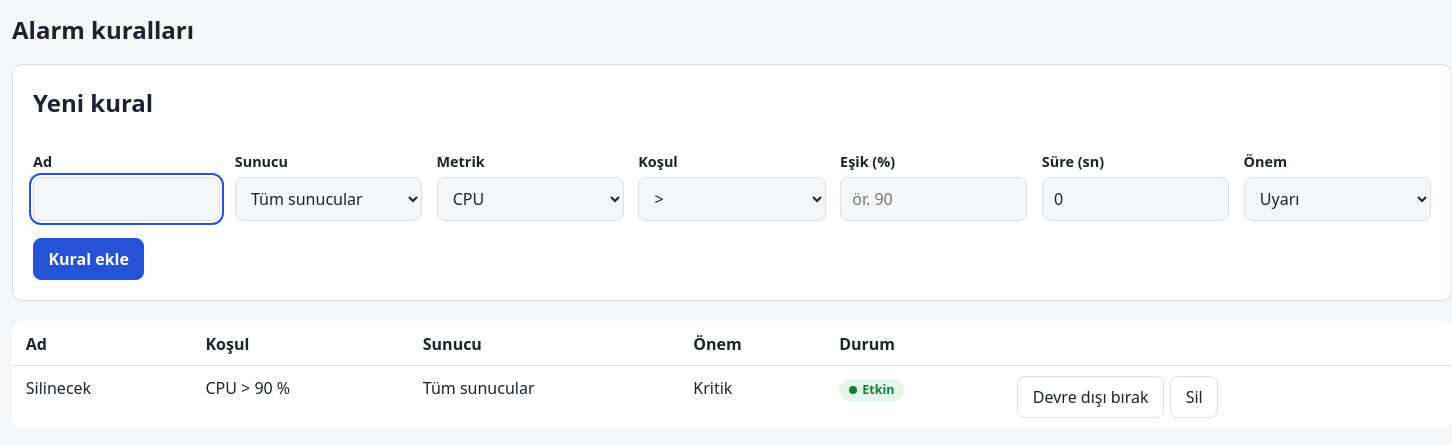
Test: RulesPage › silme: onay ister; "Vazgeç" siler(!), "Evet, sil" listeden kaldırır
Expected: the row with test id "rule-row" is shown, [12,366,1451,428]
Click the button "Sil".
click(1194, 397)  # box [1170,376,1218,418]
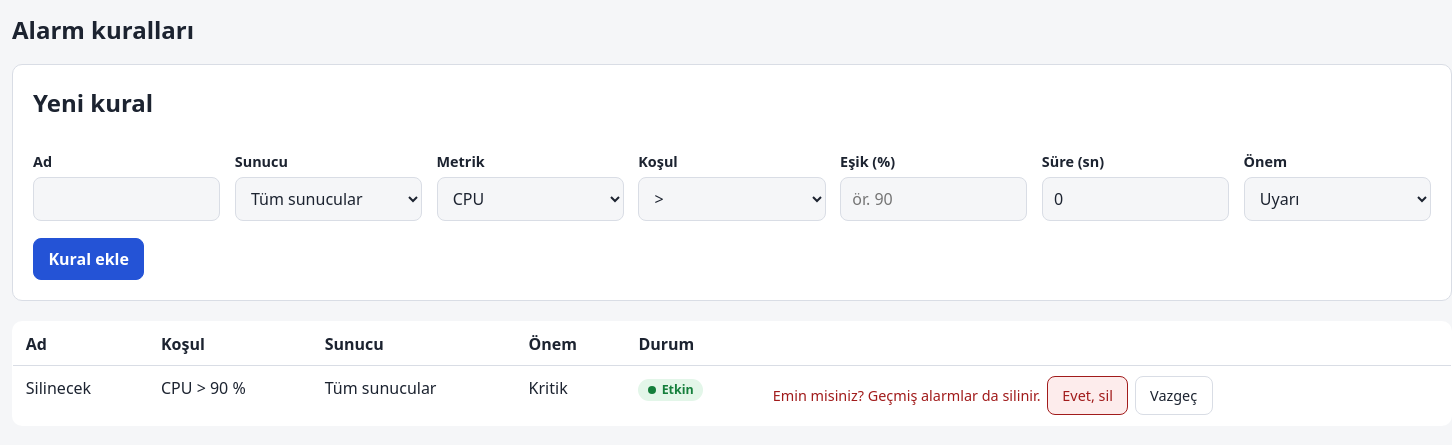
Result: the text "Emin misiniz? Geçmiş alarmlar da silinir. Evet, sil Vazgeç" is shown at [773,376,1212,416]
Click the button "Vazgeç".
click(1174, 396)  # box [1135,376,1212,416]
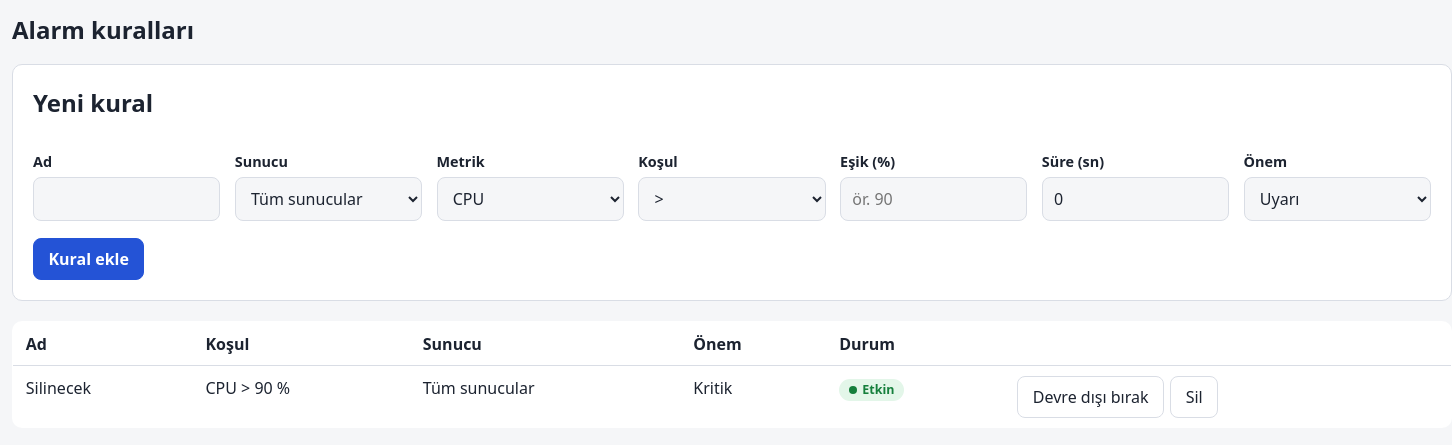
Result: the text "Geçmiş alarmlar da silinir" is gone
Click the button "Sil".
click(1194, 397)  # box [1170,376,1218,418]
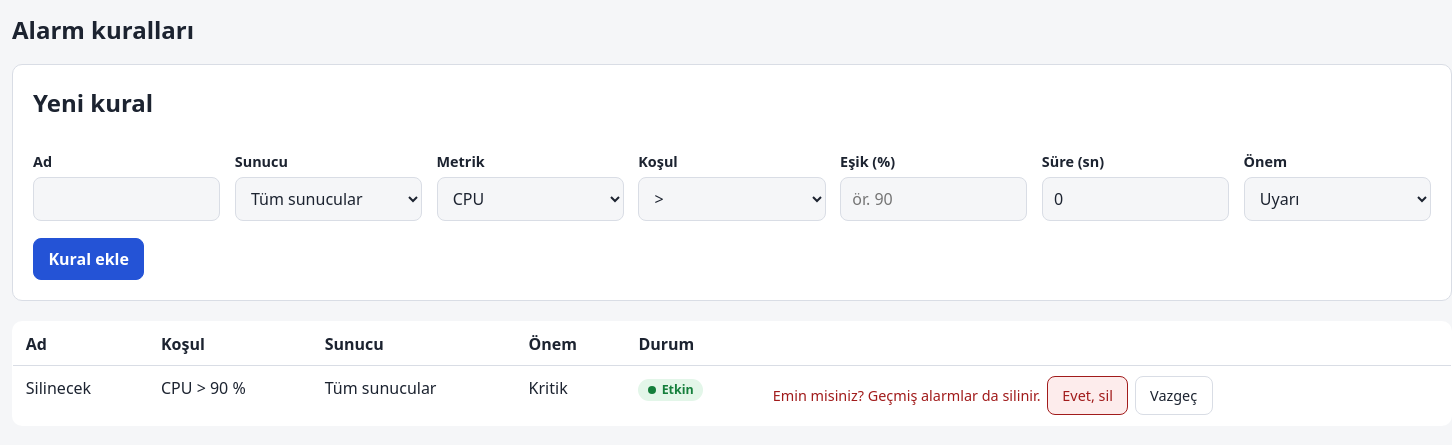
Click the button "Evet, sil".
click(1088, 396)  # box [1047,376,1128,416]
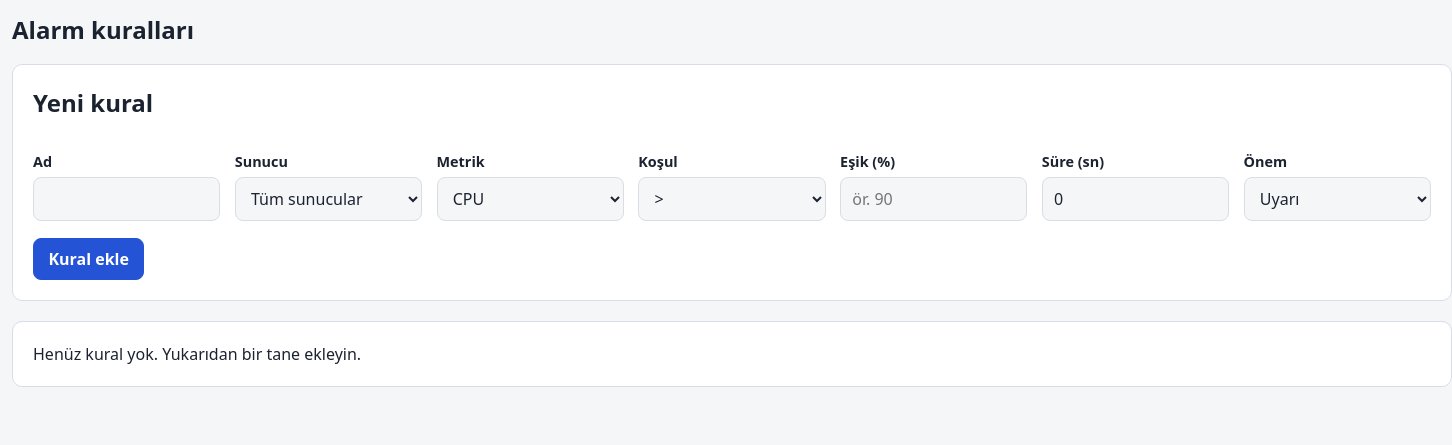
Result: the text "Henüz kural yok. Yukarıdan bir tane ekleyin." is shown at [12,321,1451,387]
